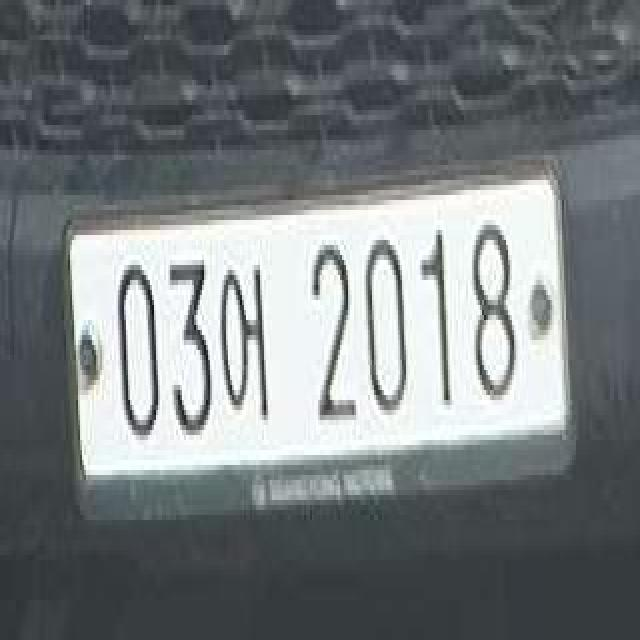illegal_plate: (75, 167, 573, 530)
